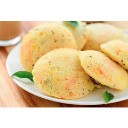idly: (21, 26, 77, 78), (35, 50, 87, 96), (79, 48, 127, 94)
